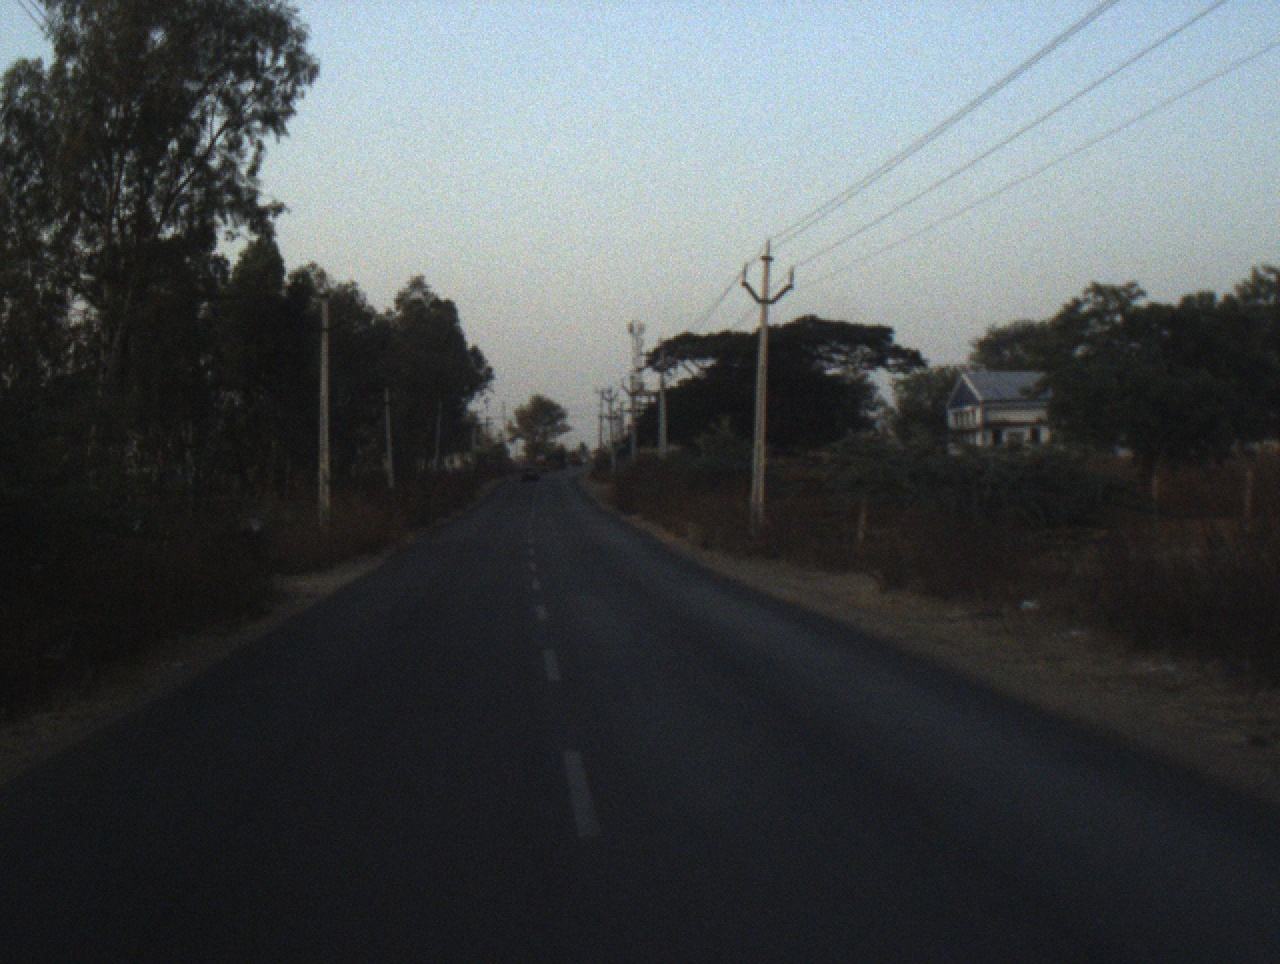autorickshaw: (535, 456, 550, 474)
car: (517, 463, 543, 484)
vehicle fallback: (569, 452, 583, 468)
